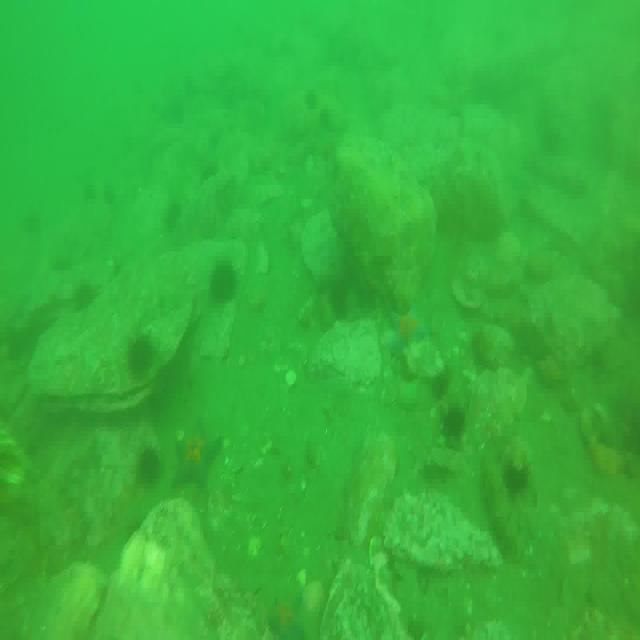echinus: (502, 448, 531, 494), (210, 260, 236, 304), (128, 339, 153, 376), (138, 447, 160, 481), (444, 406, 466, 434), (332, 284, 347, 316), (432, 373, 447, 399)
holothurian: (479, 456, 514, 556)
starfish: (176, 418, 222, 488), (389, 302, 433, 366), (266, 588, 307, 640), (516, 314, 552, 364)
